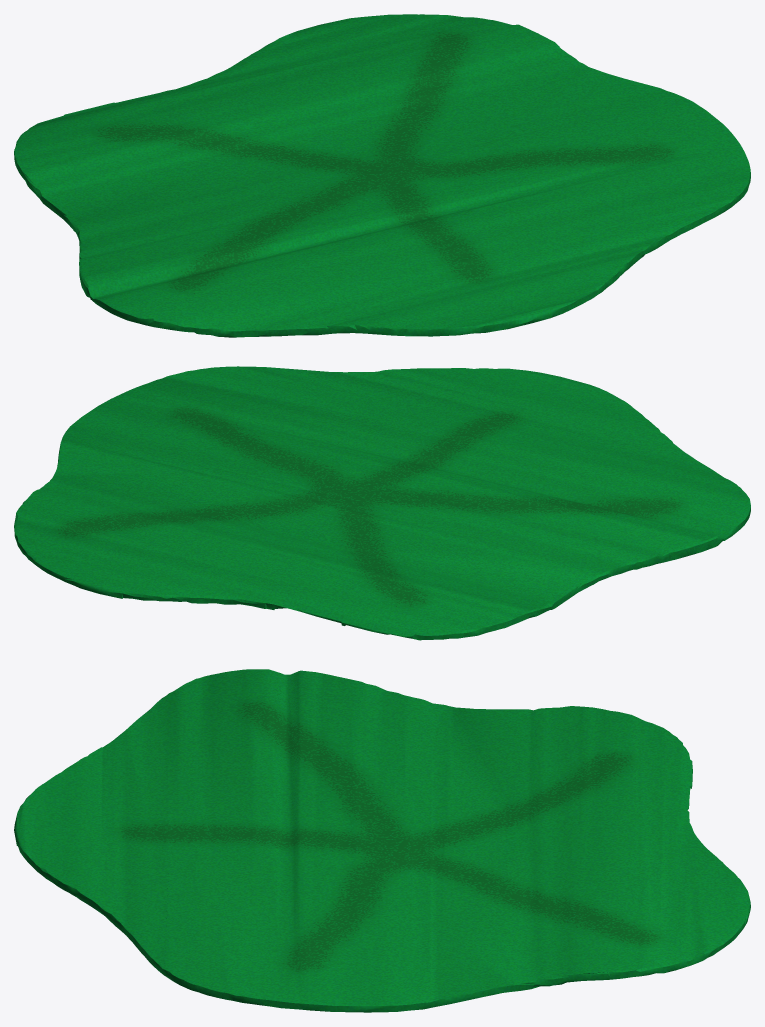
File: coster.glb
3 views of the same model, one above another, from view 1: azimuth 30°, elevation 25°; view 2: azimuth 150°, elevation 25°; view 3: azimuth 270°, elevation 25° (orthographic). The views are drawn at different scales.
Visible parts, largest first — view 1: Curve; view 2: Curve; view 3: Curve.
Part boxes in pixels (left/top/right/bottom): Curve: left=14, top=14, right=750, bottom=337; Curve: left=14, top=366, right=750, bottom=640; Curve: left=14, top=669, right=750, bottom=1012.
Bounding box in the file's own units: 0.7617 × 0.0155 × 0.7149.
1 material, 1 textured.
